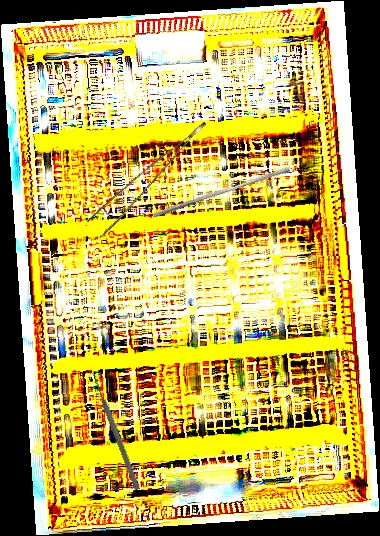Pusher: (151, 161, 291, 224), (89, 371, 142, 491)
Tissue Forceps: (81, 121, 223, 239)
